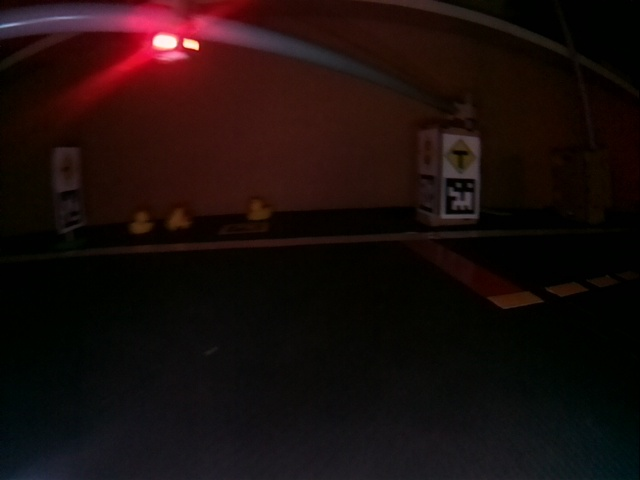Duckie: (166, 209, 192, 230), (128, 212, 151, 233), (247, 198, 271, 218)
Intersection sign: (444, 136, 476, 175), (56, 148, 81, 186)
QR code: (442, 178, 478, 217), (56, 190, 81, 231), (418, 175, 435, 213), (219, 223, 269, 234)
Signal sign: (420, 131, 438, 170)
